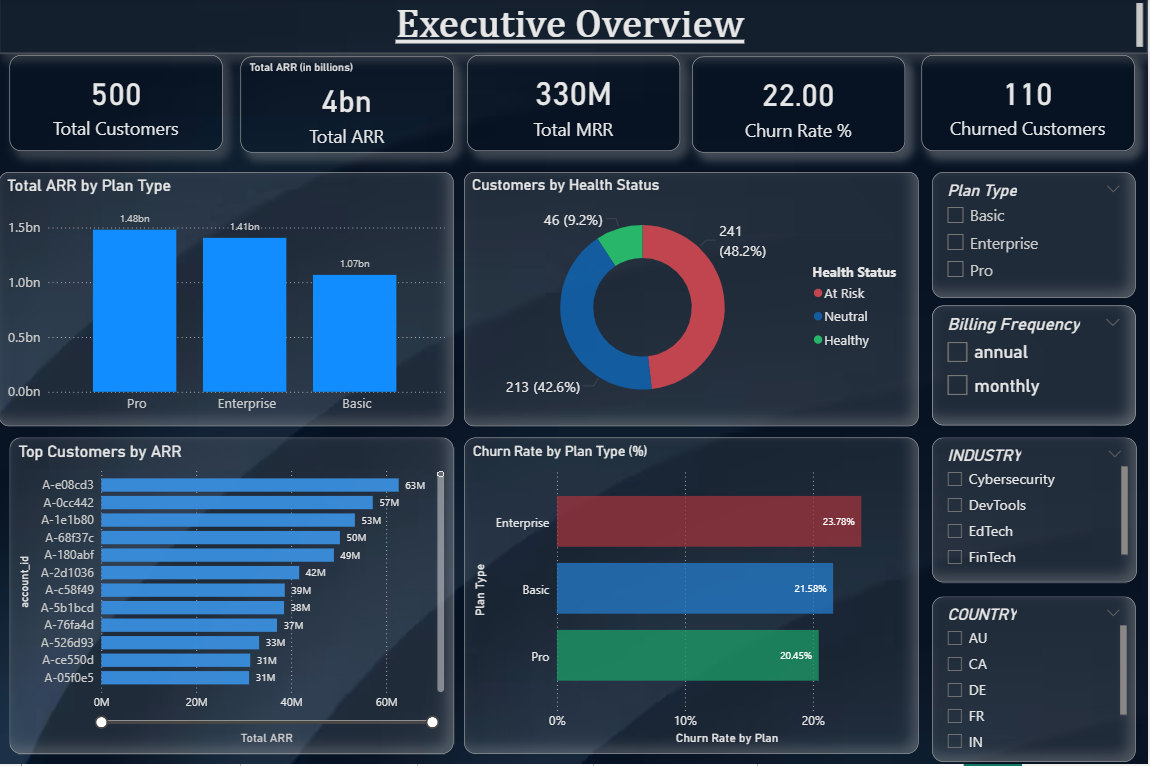

Layout of this report page (visuals, bound fields, positions):
{"tool":"powerbi","page":{"name":"Executive_overview","canvas":[1380,920],"ordinal":0},"visuals":[{"type":"textbox","box":[0,0,1380,66.7],"z":0},{"type":"card","fields":{"Values":["final_saas_dataset.Total Customers"]},"box":[13.3,68.2,255.8,115.6],"z":1000},{"type":"card","title":"Total ARR (in billions)","fields":{"Values":["final_saas_dataset.Total ARR"]},"box":[289.9,70.1,255.8,115.6],"z":2000},{"type":"card","fields":{"Values":["final_saas_dataset.Total MRR"]},"box":[562.7,68.2,255.8,115.6],"z":3000},{"type":"card","fields":{"Values":["final_saas_dataset.Churn Rate %"]},"box":[831.8,70.1,255.8,115.6],"z":4000},{"type":"clusteredBarChart","title":"Top Customers by ARR","fields":{"Y":["final_saas_dataset.Total ARR"],"Category":["final_saas_dataset.account_id"]},"box":[12.6,527.9,533.3,380.1],"z":5000},{"type":"donutChart","title":"Customers by Health Status","fields":{"Category":["final_saas_dataset.health_status"],"Y":["CountNonNull(final_saas_dataset.account_id)"]},"box":[559,208.4,545.7,305.1],"z":6000},{"type":"card","fields":{"Values":["final_saas_dataset.Churned Customers"]},"box":[1108.4,68.2,255.8,115.6],"z":7000},{"type":"clusteredColumnChart","title":"Total ARR by Plan Type","fields":{"Category":["final_saas_dataset.plan_type"],"Y":["final_saas_dataset.Total ARR"]},"box":[0,208.4,545.7,305],"z":8000},{"type":"slicer","fields":{"Values":["final_saas_dataset.plan_type"]},"box":[1119.8,208.4,244.4,151.6],"z":9000},{"type":"slicer","fields":{"Values":["final_saas_dataset.billing_frequency"]},"box":[1119.8,369.5,244.4,144],"z":10000},{"type":"slicer","fields":{"Values":["final_saas_dataset.industry"]},"box":[1119.8,528.6,246.3,174.3],"z":11000},{"type":"slicer","fields":{"Values":["final_saas_dataset.country"]},"box":[1119.8,718.1,244.4,198.9],"z":12000},{"type":"clusteredBarChart","title":"Churn Rate by Plan Type (%)","fields":{"Y":["final_saas_dataset.Churn Rate by Plan"],"Category":["final_saas_dataset.plan_type"]},"box":[559,528,546,380],"z":13000}]}

Visuals, with their boxes in screenshot pixels (x1, y1, x2, y2), scaled from the page's 1380x920 canvas onto the 1150x766 screenshot:
textbox: <box>0,0,1149,56</box>
card - final_saas_dataset.Total Customers: <box>11,57,224,153</box>
"Total ARR (in billions)" card: <box>242,58,455,155</box>
card - final_saas_dataset.Total MRR: <box>469,57,682,153</box>
card - final_saas_dataset.Churn Rate %: <box>693,58,906,155</box>
"Top Customers by ARR" clusteredBarChart: <box>10,440,455,756</box>
"Customers by Health Status" donutChart: <box>466,174,921,428</box>
card - final_saas_dataset.Churned Customers: <box>924,57,1137,153</box>
"Total ARR by Plan Type" clusteredColumnChart: <box>0,174,455,427</box>
slicer - final_saas_dataset.plan_type: <box>933,174,1137,300</box>
slicer - final_saas_dataset.billing_frequency: <box>933,308,1137,428</box>
slicer - final_saas_dataset.industry: <box>933,440,1138,585</box>
slicer - final_saas_dataset.country: <box>933,598,1137,764</box>
"Churn Rate by Plan Type (%)" clusteredBarChart: <box>466,440,921,756</box>
